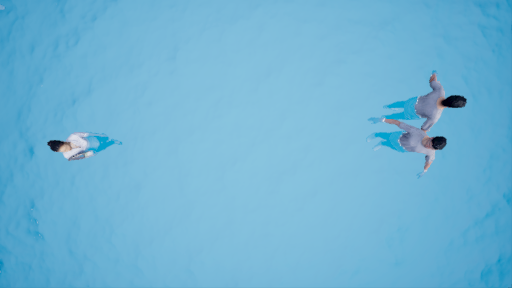person: (353, 113, 458, 178), (367, 73, 473, 125), (47, 124, 132, 165)
